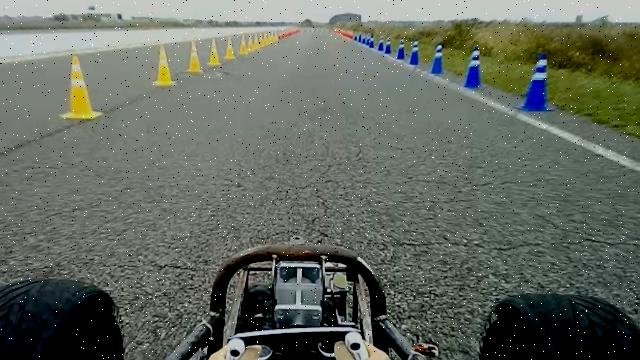blue cone: (515, 52, 556, 112), (464, 45, 482, 88), (430, 42, 444, 74), (409, 39, 420, 65), (396, 38, 405, 60), (377, 36, 385, 52), (385, 36, 392, 54), (369, 34, 375, 48)
yellow cone: (59, 55, 103, 120), (152, 43, 178, 86), (186, 40, 204, 74), (206, 37, 222, 66), (224, 36, 237, 60), (239, 34, 249, 55), (248, 34, 255, 52)
